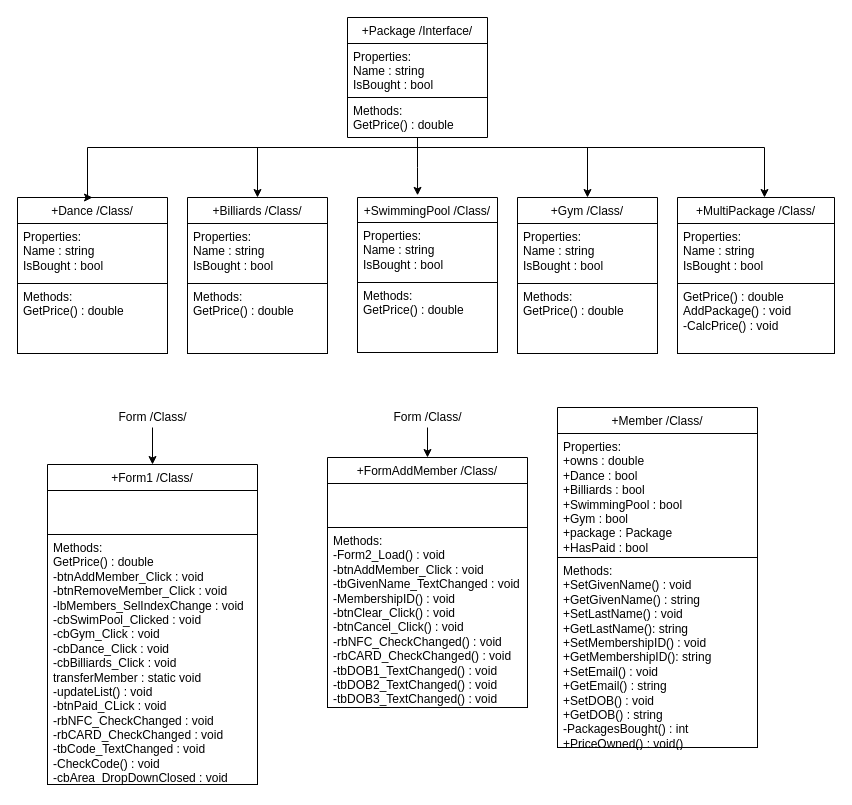
Some shapes in this 852 by 805 pixel diagram are drawn without their labels. Here are the shapes that lost their labels. From the top down, the centre of each, then its label:
At (152,512): "Properties: +memberAdded : bool /static/".
At (427,505): "Properties:".
